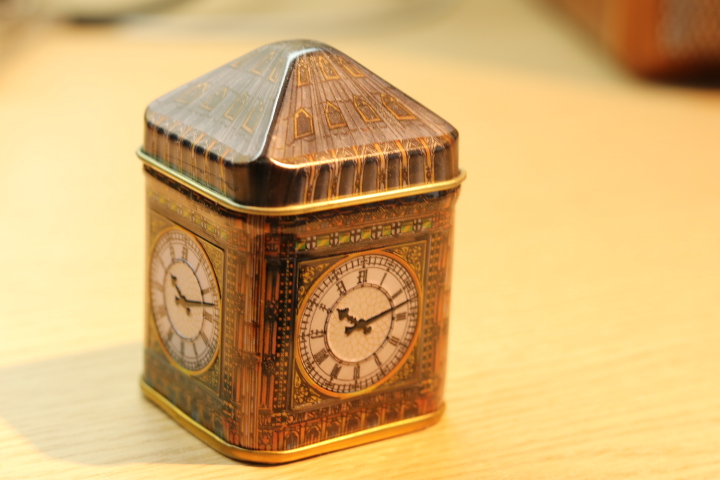Big Ben: (126, 32, 482, 477)
